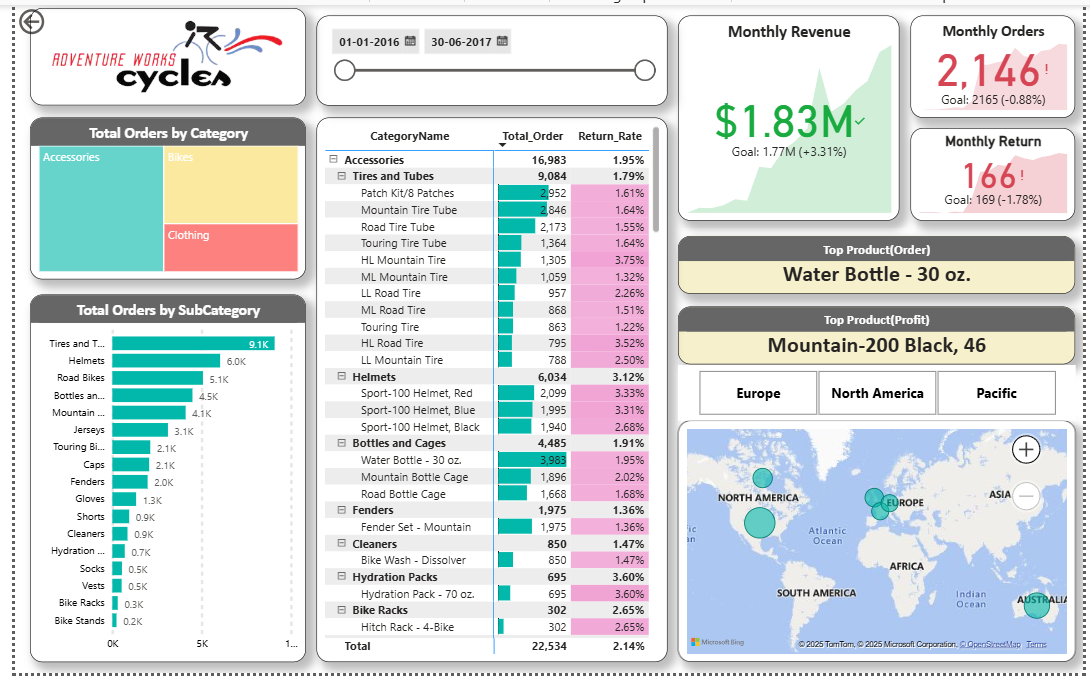

The page's visual inventory and layout, read from the dashboard file:
{"tool":"powerbi","page":{"name":"Exec Summary","canvas":[1280,800],"ordinal":0},"visuals":[{"type":"treemap","title":"Total Orders by Category","fields":{"Group":["AW_Product_Categories.CategoryName","AW_Product_Subcategories.SubcategoryName"],"Values":["AW_Sales_Data_2015_17.Total_Order"]},"box":[18,134.8,330.8,194.2],"z":0},{"type":"clusteredBarChart","title":"Total Orders by SubCategory","fields":{"Category":["AW_Product_Subcategories.SubcategoryName"],"Y":["AW_Sales_Data_2015_17.Total_Order"]},"box":[18,347,330.8,440.4],"z":1000},{"type":"pivotTable","fields":{"Rows":["AW_Product_Categories.CategoryName","AW_Product_Subcategories.SubcategoryName","AW_Products.ProductName"],"Values":["AW_Sales_Data_2015_17.Total_Order","AW_Returns.Return_Rate"]},"box":[361.3,134.8,420.7,652.6],"z":2000},{"type":"kpi","title":"Monthly Revenue","fields":{"Indicator":["AW_Sales_Data_2015_17.Total_Revenue"],"TrendLine":["AW_Calendar.Start of Month"],"Goal":["AW_Sales_Data_2015_17.Prev_Month_Revenue"]},"box":[795,12.4,265.3,245.9],"z":3000},{"type":"kpi","title":"Monthly Orders","fields":{"Indicator":["AW_Sales_Data_2015_17.Total_Order"],"TrendLine":["AW_Calendar.Start of Month"],"Goal":["AW_Sales_Data_2015_17.Prev_Month_Order"]},"box":[1073.3,12.4,197.4,123],"z":4000},{"type":"kpi","title":"Monthly Return","fields":{"Indicator":["AW_Returns.Total_Return"],"TrendLine":["AW_Calendar.Start of Month"],"Goal":["AW_Returns.Prev_Month_return"]},"box":[1073.3,146.7,197.4,111.6],"z":5000},{"type":"card","title":"Top Product(Order)","fields":{"Values":["Min(AW_Products.ProductName)"]},"box":[794.4,276.7,475.7,69.6],"z":6000},{"type":"actionButton","box":[0,0,100,40],"z":7000},{"type":"card","title":"Top Product(Profit)","fields":{"Values":["Min(AW_Products.ProductName)"]},"box":[794.4,360.8,475.7,69.6],"z":8000},{"type":"map","fields":{"Category":["AW_Territories.Country"],"Size":["AW_Sales_Data_2015_17.Total_Order"]},"box":[794.6,498,476.4,289.4],"z":9000},{"type":"slicer","fields":{"Values":["AW_Territories.Continent"]},"box":[794.6,431.5,476.4,66.5],"z":9001},{"type":"slicer","fields":{"Values":["AW_Calendar.Date"]},"box":[361.3,12.6,420.7,107.9],"z":9002},{"type":"image","box":[18,3.6,330.8,116.9],"z":9003}]}

Visuals, with their boxes in screenshot pixels (x1, y1, x2, y2), scaled from the page's 1280x800 canvas onto the 1090x676 screenshot:
"Total Orders by Category" treemap: (15, 114, 297, 278)
"Total Orders by SubCategory" clusteredBarChart: (15, 293, 297, 665)
pivotTable - AW_Product_Categories.CategoryName x AW_Product_Subcategories.SubcategoryName: (308, 114, 666, 665)
"Monthly Revenue" kpi: (677, 10, 903, 218)
"Monthly Orders" kpi: (914, 10, 1082, 114)
"Monthly Return" kpi: (914, 124, 1082, 218)
"Top Product(Order)" card: (676, 234, 1082, 293)
actionButton: (0, 0, 85, 34)
"Top Product(Profit)" card: (676, 305, 1082, 364)
map - AW_Territories.Country x AW_Sales_Data_2015_17.Total_Order: (677, 421, 1082, 665)
slicer - AW_Territories.Continent: (677, 365, 1082, 421)
slicer - AW_Calendar.Date: (308, 11, 666, 102)
image: (15, 3, 297, 102)
